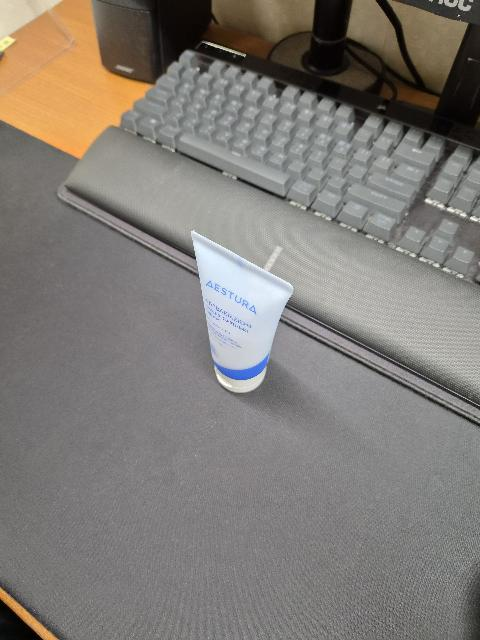handcream: (190, 230, 294, 393)
